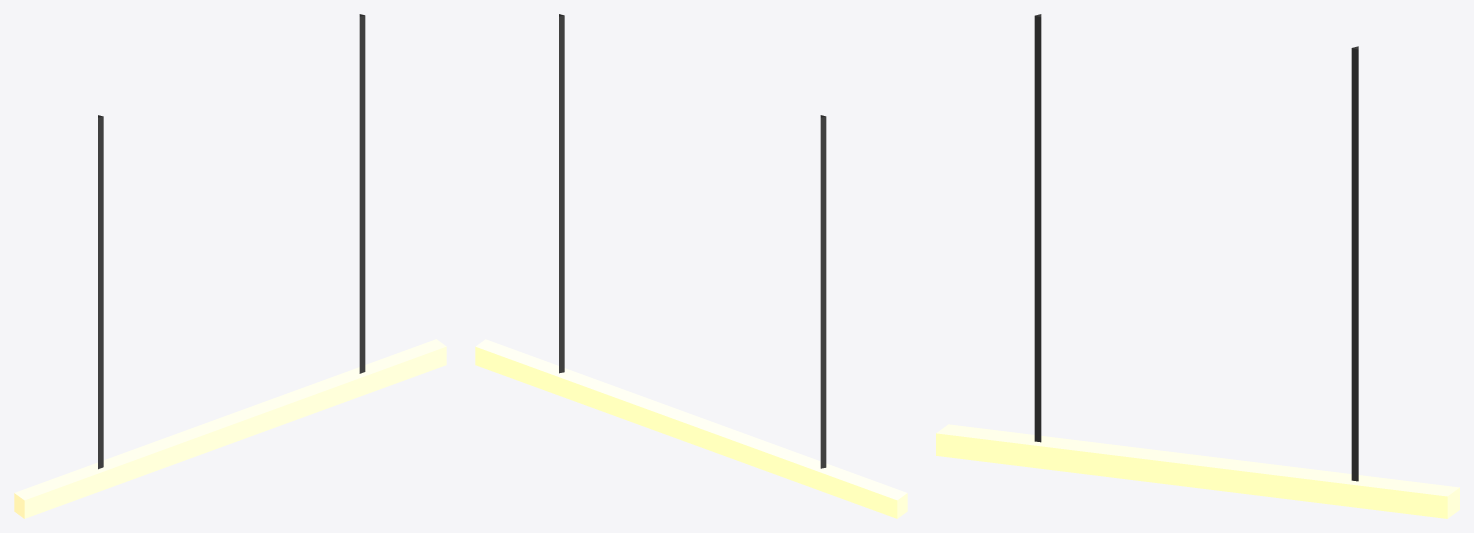
File: lightTilted.fbx
The picture shows the model from 3 angles, left to right: view 1: azimuth 30°, elevation 25°; view 2: azimuth 150°, elevation 25°; view 3: azimuth 330°, elevation 25°; orthographic projection. The views are drawn at different scales.
Parts seen in each view (by area): view 1: Cube; view 2: Cube; view 3: Cube.
Boxes of the visible parts, x1,y1,x2,y2 form: Cube: (14, 14, 446, 518); Cube: (475, 14, 907, 518); Cube: (936, 14, 1459, 518).
Size of the model in its own units: 2570 by 2423 by 108.
